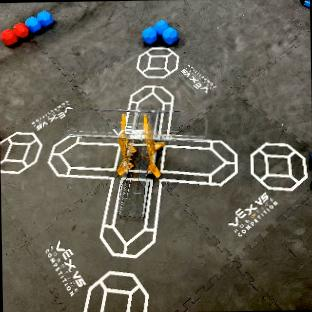Med_goal: (63, 105, 204, 176)
V5_BLUE: (142, 21, 177, 43)
V5_RED: (0, 28, 15, 43), (13, 23, 27, 36)
